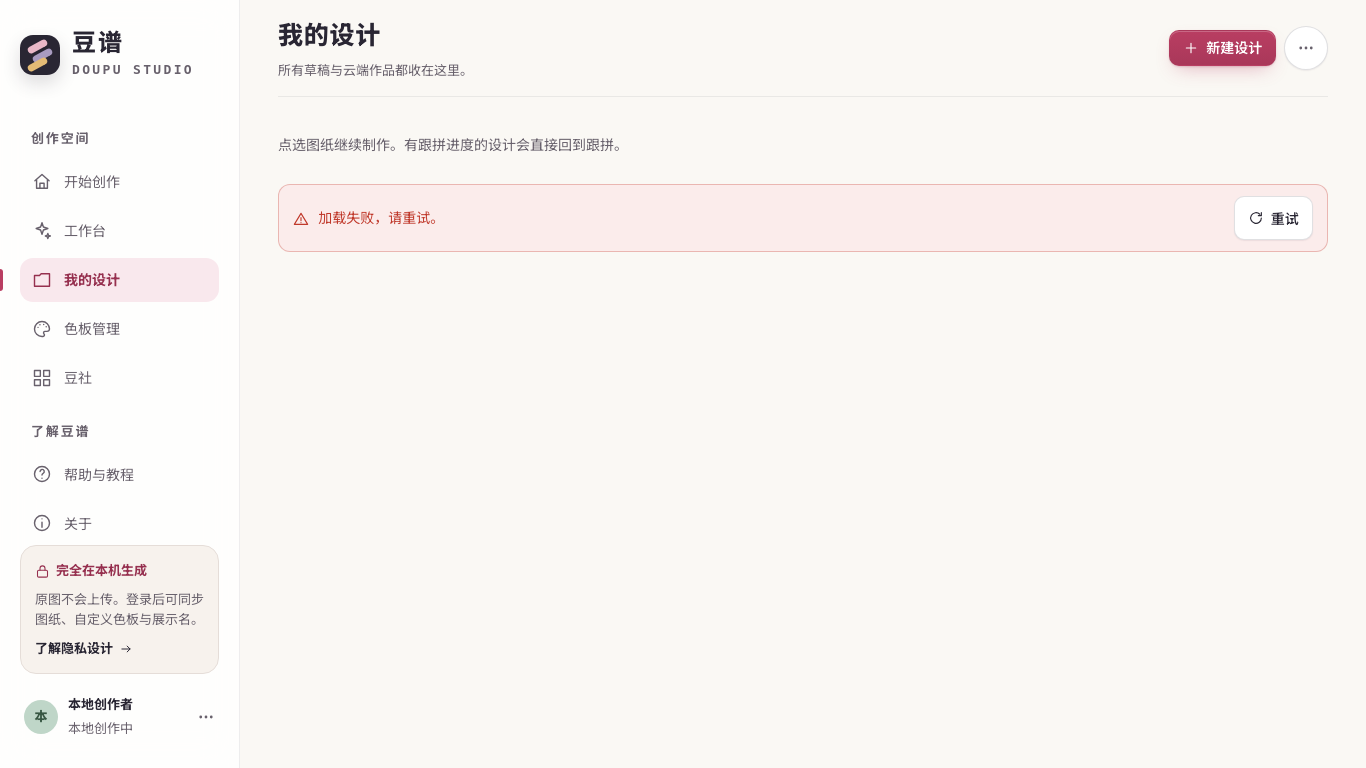
Scenario: DesignsView › 列表读取失败不显示没有设计，并可重试恢复
Expected: the text "加载失败，请重试。" is shown, [318,209,444,226]
Click the button "重试".
click(1273, 218)  # box [1234,196,1313,240]
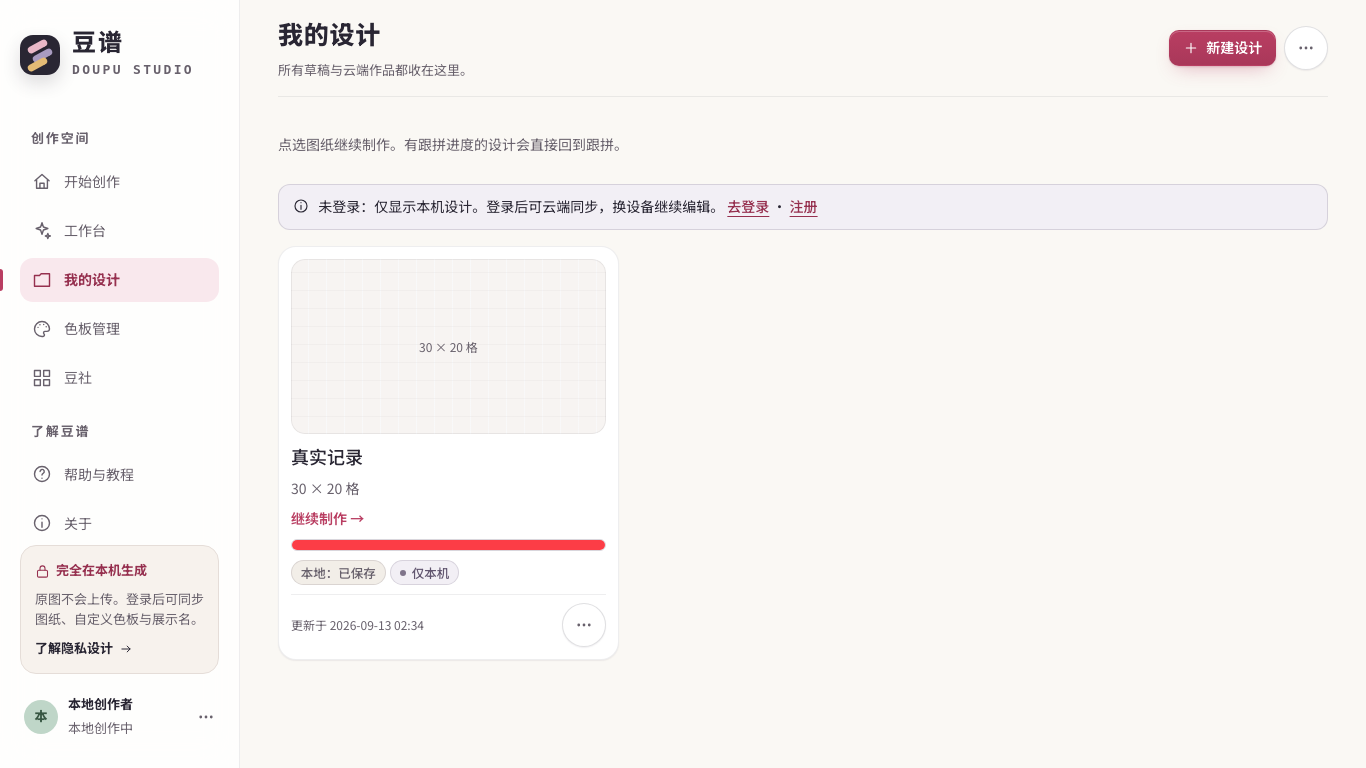
Expected: the text "真实记录" is shown, [291,446,363,468]
